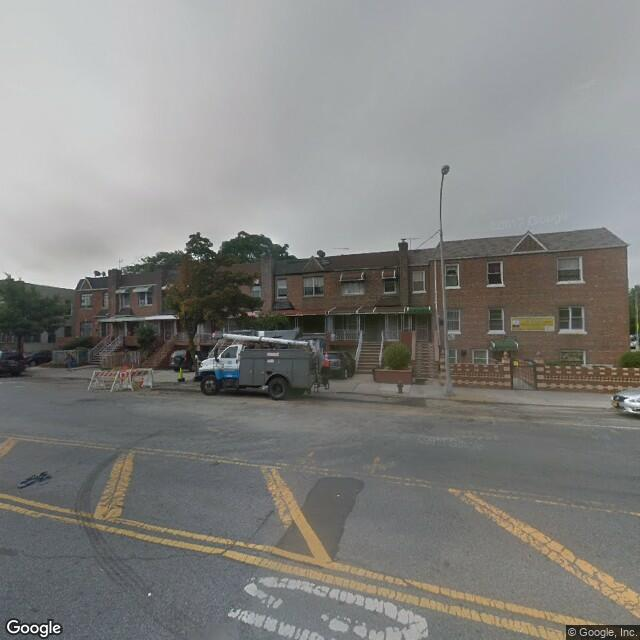litter: (144, 589, 154, 598)
